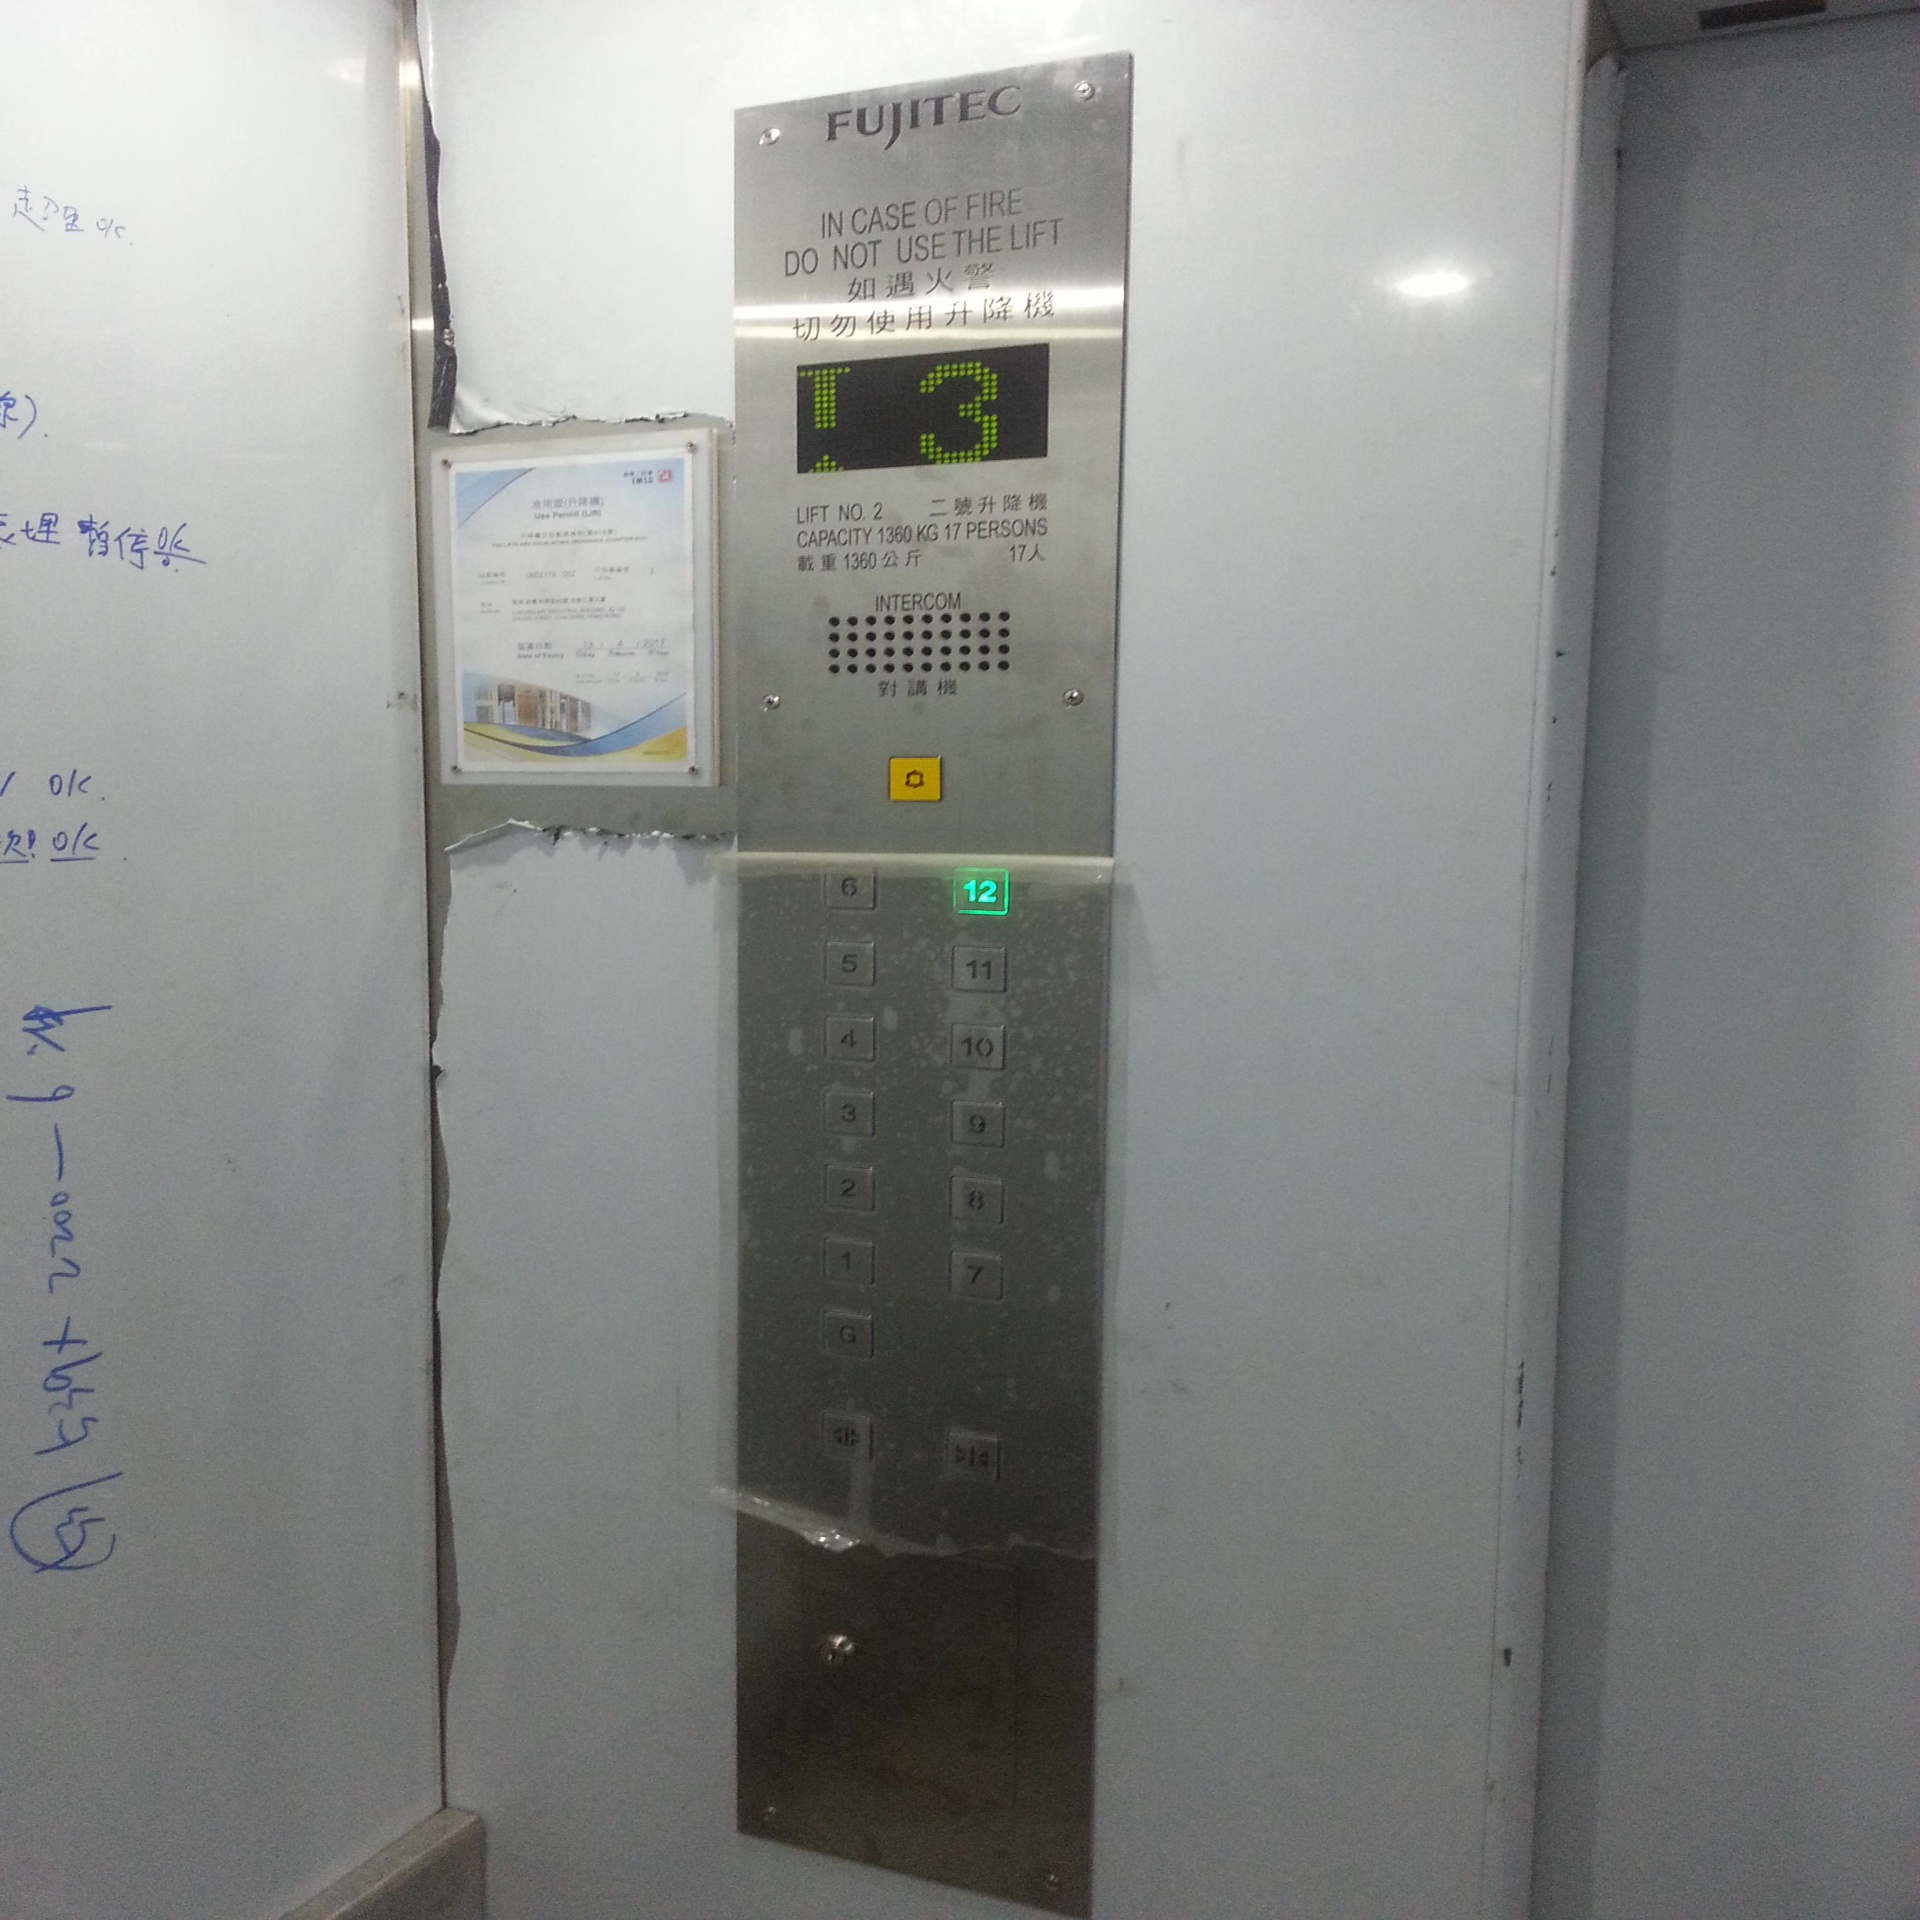1: (821, 1238, 876, 1285)
10: (948, 1022, 1009, 1073)
11: (951, 942, 1009, 993)
12: (951, 867, 1011, 916)
2: (826, 1164, 876, 1211)
3: (825, 1088, 876, 1136)
4: (825, 1013, 879, 1062)
5: (825, 942, 876, 986)
6: (825, 867, 877, 911)
7: (949, 1250, 1006, 1299)
8: (949, 1175, 1006, 1222)
9: (949, 1101, 1007, 1148)
G: (825, 1308, 877, 1359)
alarm: (888, 754, 942, 804)
close: (946, 1431, 1000, 1484)
keyhole: (814, 1628, 856, 1674)
led: (793, 343, 1057, 478)
open: (819, 1410, 872, 1461)
